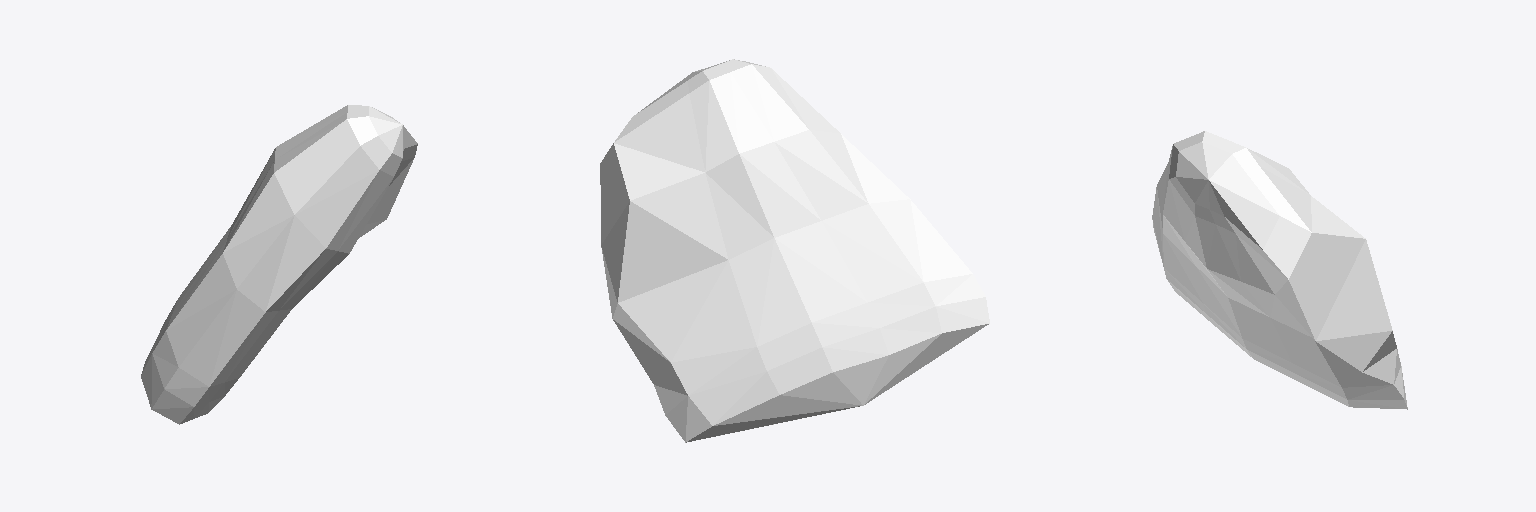
File: HandL.obj
3 views of the same model, side by side, from view 1: azimuth 30°, elevation 25°; view 2: azimuth 150°, elevation 25°; view 3: azimuth 270°, elevation 25° (orthographic).
Visible parts, largest first — view 1: Handl1; view 2: Handl1; view 3: Handl1.
Part boxes in pixels (x1,y1,x2,y2): Handl1: (141, 105, 417, 424); Handl1: (600, 59, 989, 442); Handl1: (1152, 131, 1407, 409).
Size of the model in its own units: 1.63 by 1.45 by 1.11.